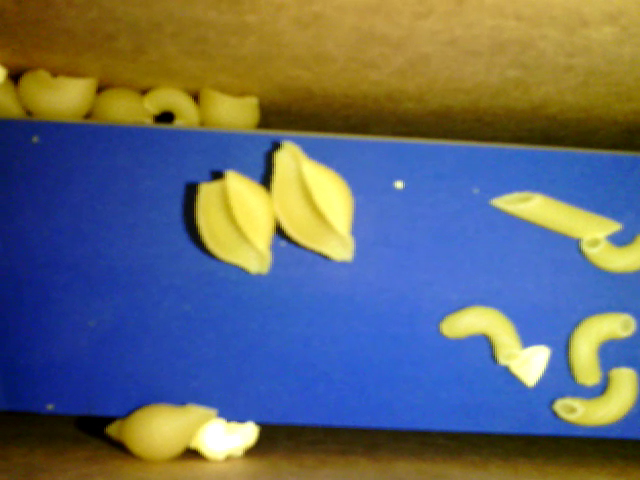elbow: (567, 312, 636, 386), (440, 304, 521, 365), (551, 368, 639, 424), (143, 86, 202, 129), (580, 231, 639, 273)
penne: (491, 191, 622, 241)
shell: (270, 140, 354, 263), (196, 168, 276, 274), (107, 401, 219, 462), (16, 68, 97, 120), (196, 85, 258, 130), (92, 88, 155, 126)
